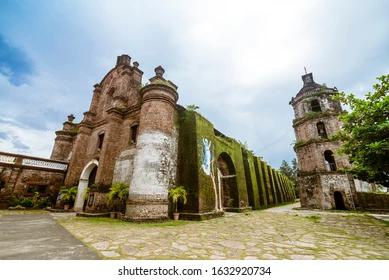santa_maria_church_santa_maria_ilocos_sur: (44, 50, 172, 226)
unfinished_paint: (109, 129, 177, 200)
water_damage_or_mold: (194, 117, 214, 135), (216, 140, 232, 154), (201, 176, 211, 198), (235, 143, 243, 169), (237, 174, 245, 198), (252, 179, 259, 199), (249, 154, 255, 175), (258, 159, 262, 174)
